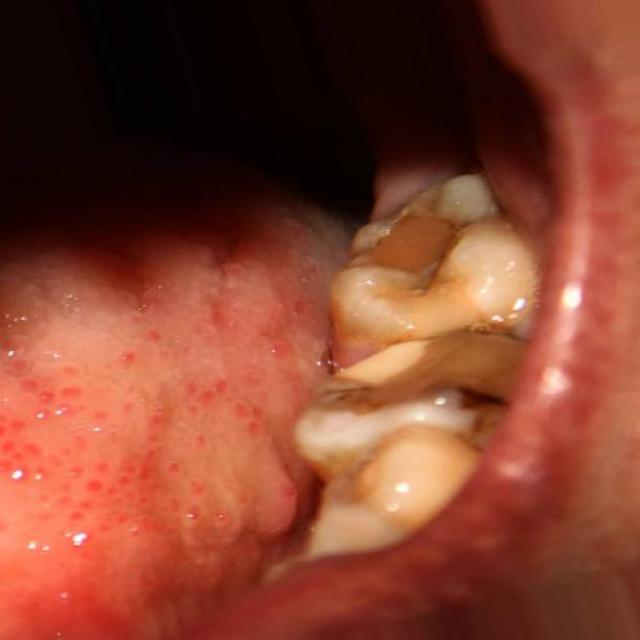caries: (339, 193, 509, 329), (325, 329, 514, 441)
